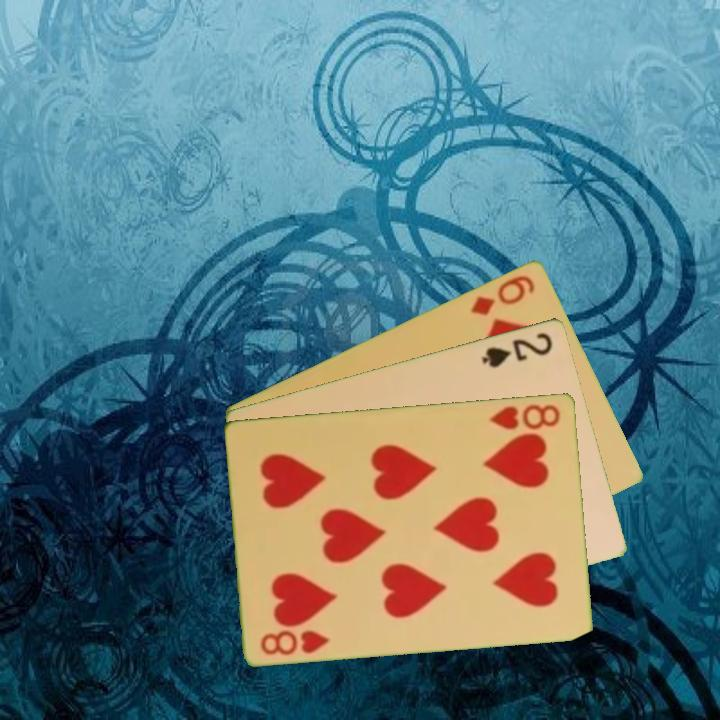2s: (478, 328, 556, 370)
6d: (467, 271, 538, 319)
8h: (485, 400, 564, 432), (257, 626, 333, 658)
